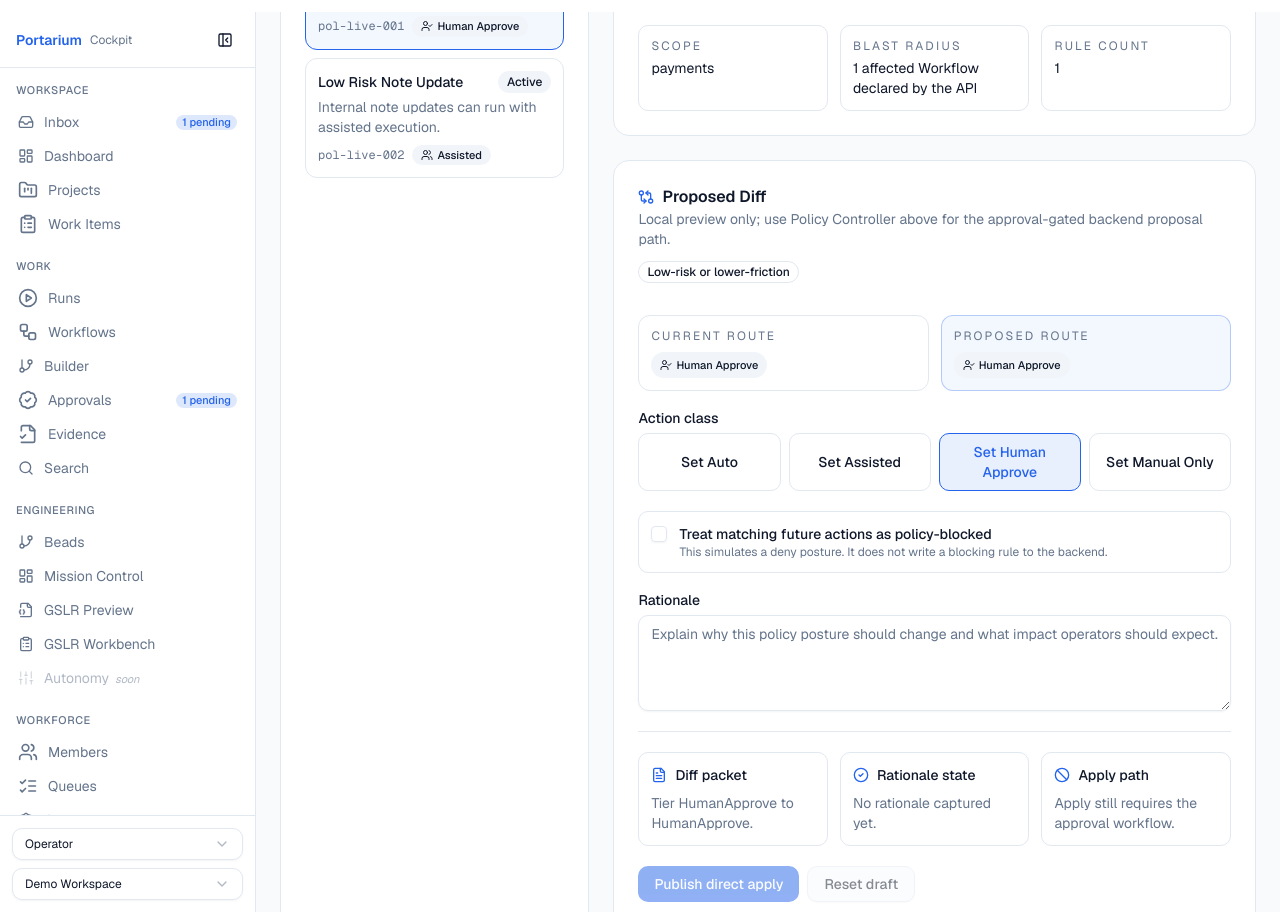
Test case: Policy Studio route › stages a local policy-blocked draft and rationale in dev-live mode
The width and height of the screenshot is (1280, 912).
(page scrolled)
Click the button "Set Manual Only" at (1160, 462), box top-left (1089, 433), bottom-right (1231, 491)
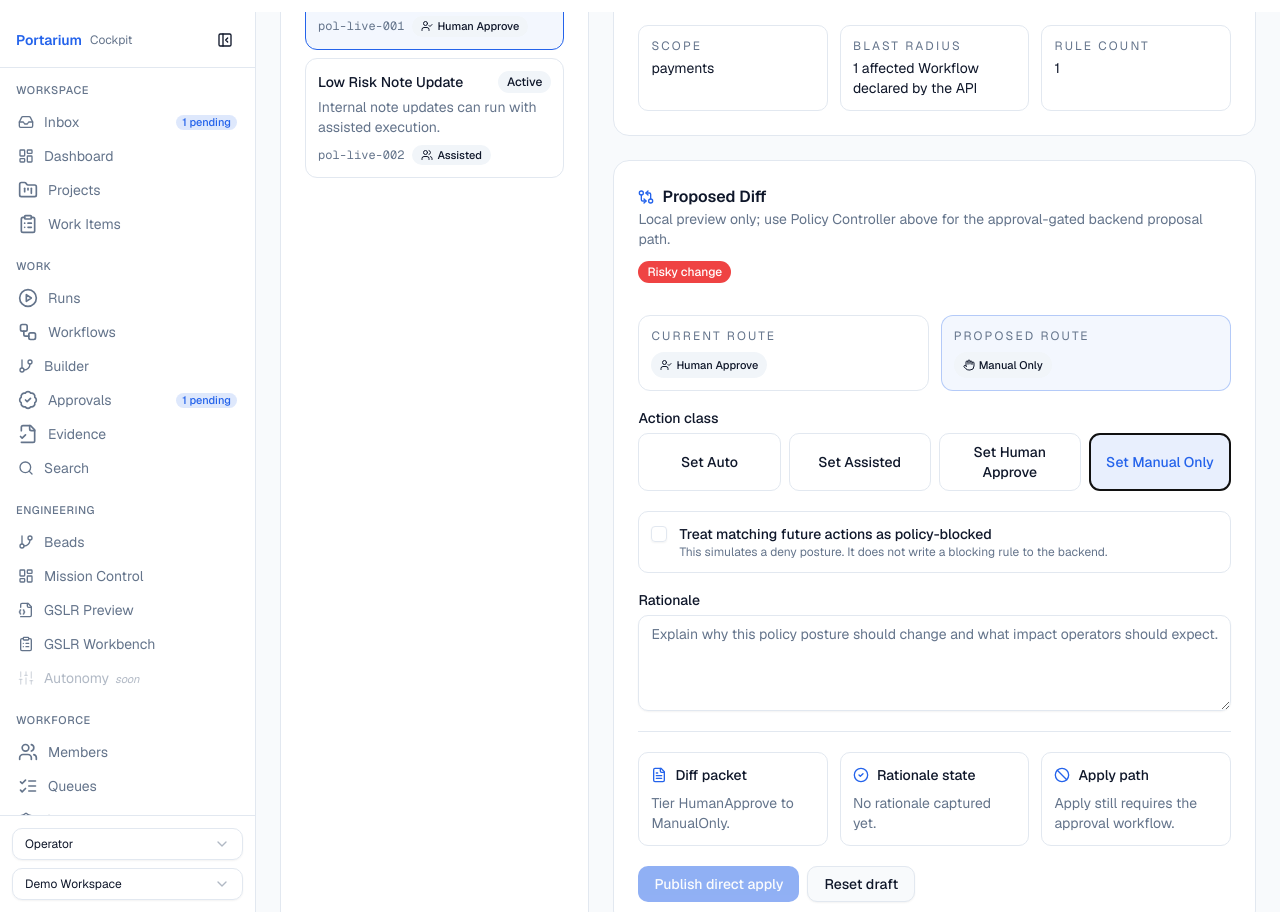
Click the checkbox named "Treat matching future actions as policy-blocked" at (659, 534), box top-left (651, 526), bottom-right (667, 542)
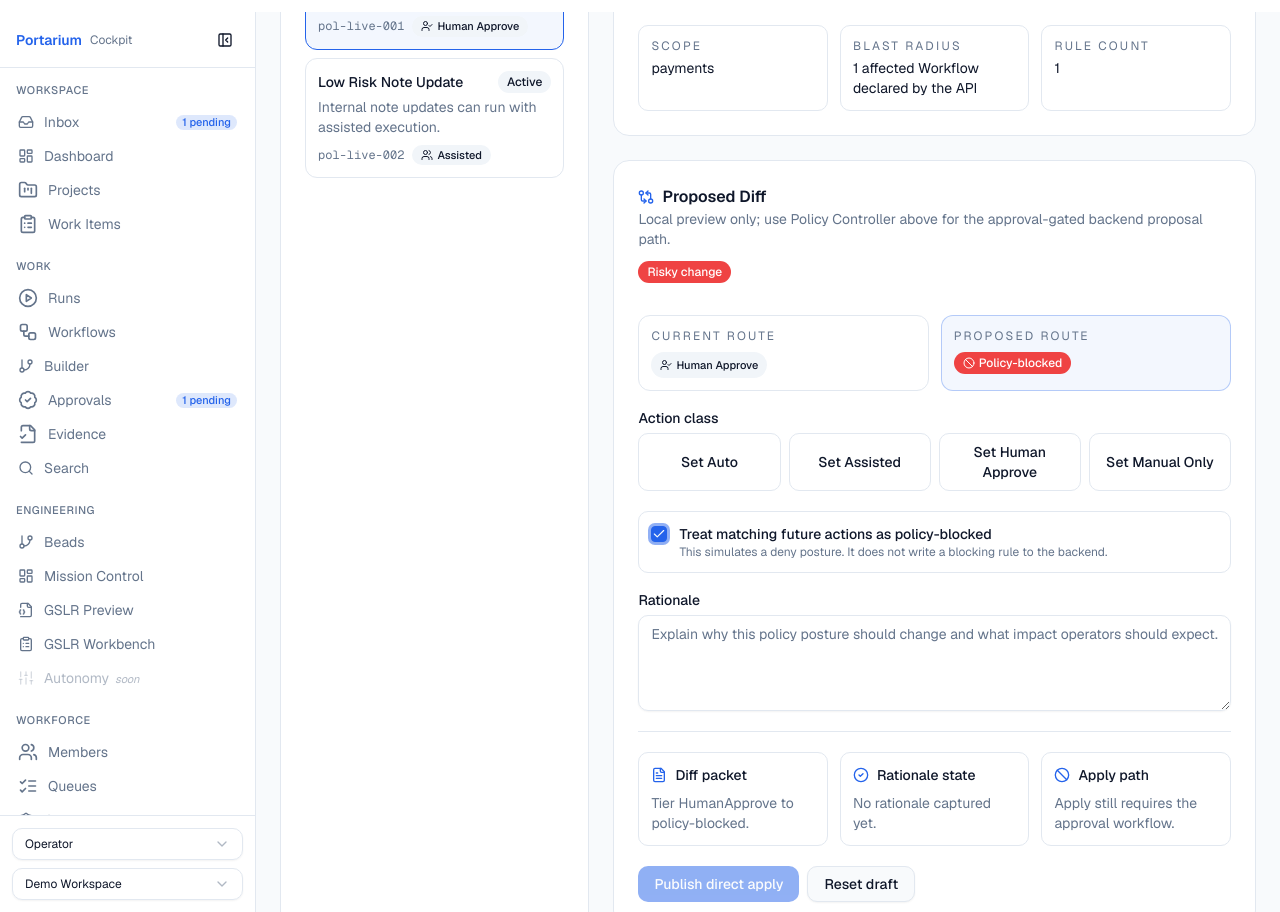
Type "Escalate payouts." into the text box labelled "Rationale" at (935, 663), box top-left (638, 615), bottom-right (1231, 711)
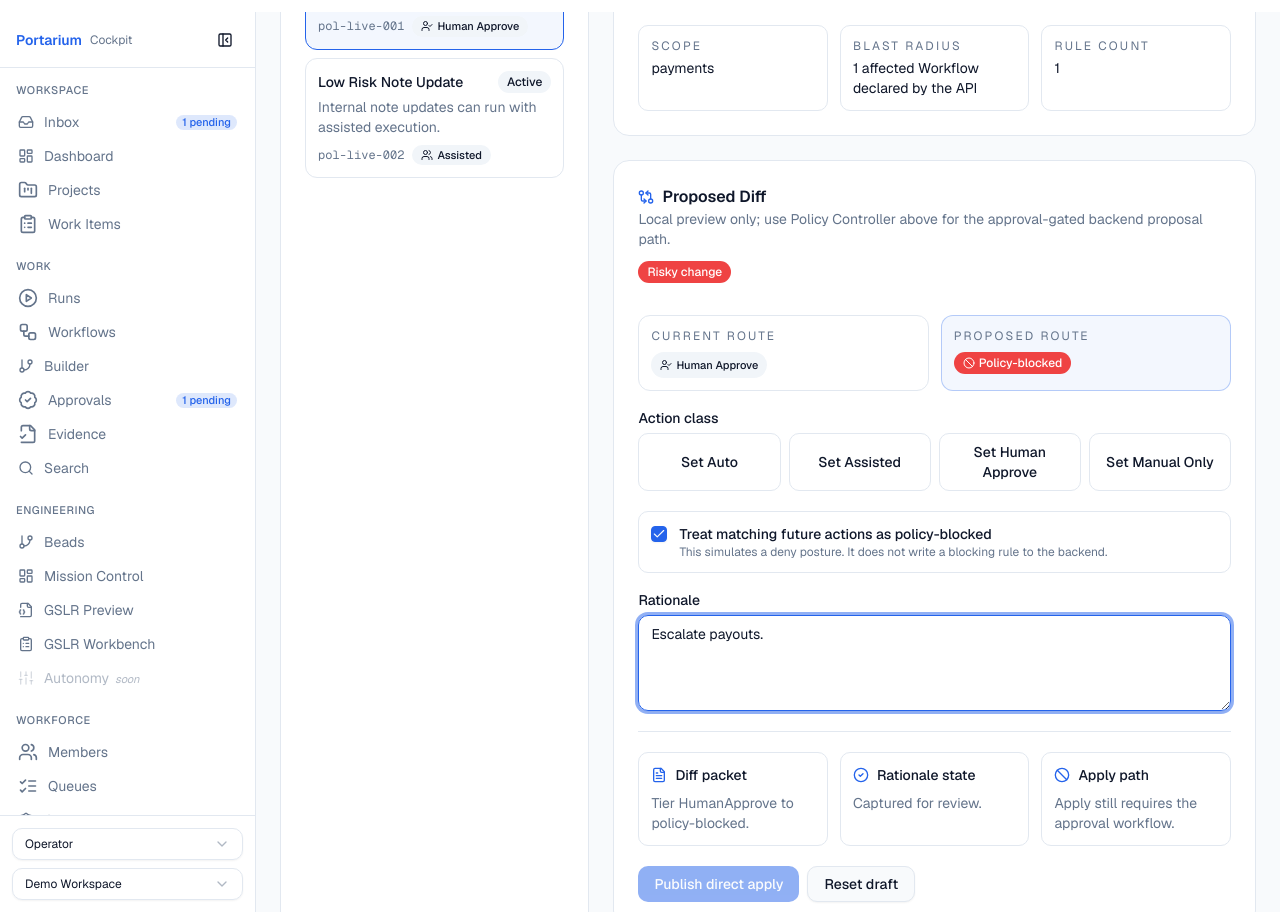
Now the text "Policy-blocked" is shown, box top-left (954, 352), bottom-right (1071, 374)
Now the text "Risky change" is shown, box top-left (638, 261), bottom-right (731, 283)
Now the text "Captured for review." is shown, box top-left (853, 794), bottom-right (981, 812)
